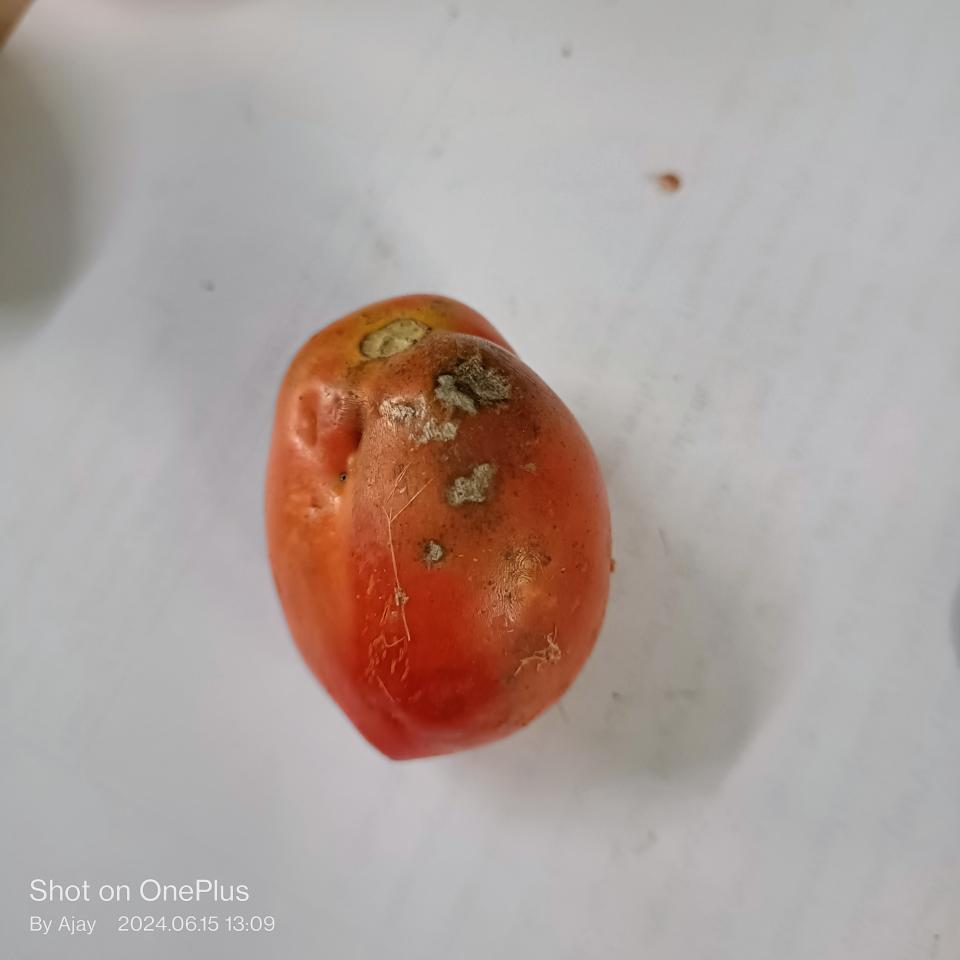Bacterial_Spot: (375, 332, 517, 566)
